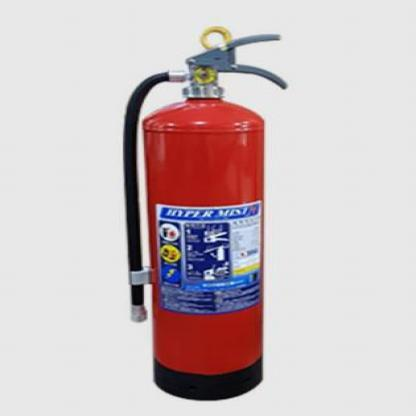Fire Extinguisher: (113, 16, 293, 410)
